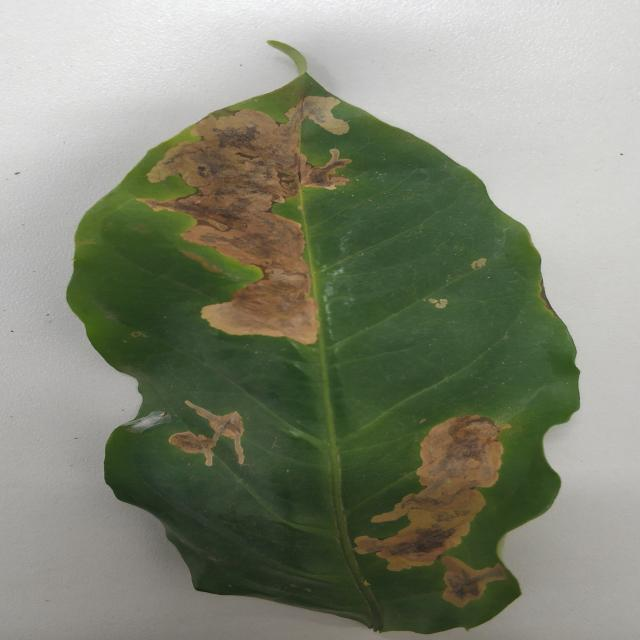Plaga-Minador: (65, 43, 583, 638)
